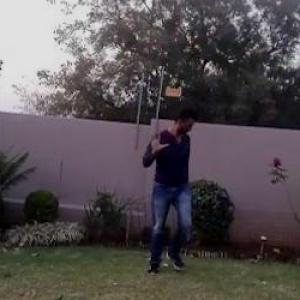follow_hand: (145, 124, 170, 153)
